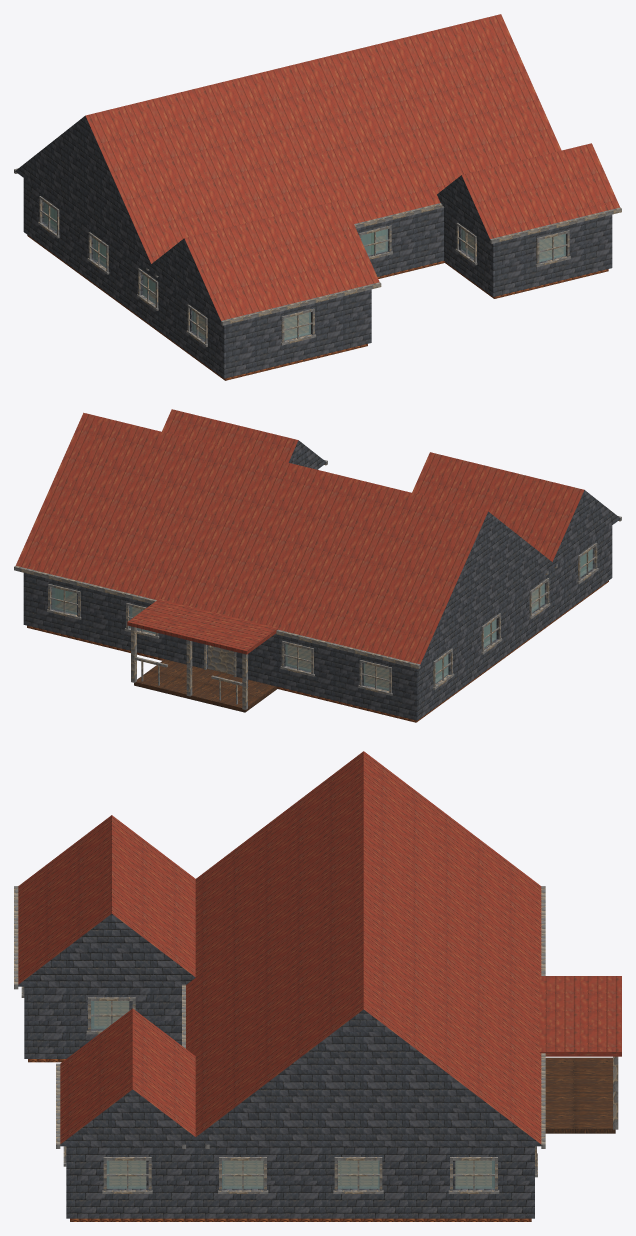
The model's file is cedar-split.gltf.
3 renders of one model, top to bottom at view 1: azimuth 30°, elevation 25°; view 2: azimuth 150°, elevation 25°; view 3: azimuth 270°, elevation 25°, orthographic. The views are drawn at different scales.
Visible parts, largest first — view 1: roof-L0-brown-shingle, exterior-L0-sage-siding, roof-L0-sage-siding, trim-L0-dark-wood, glazing-L0-glass, floor-L0-floor, roof-L0-dark-wood; view 2: roof-L0-brown-shingle, exterior-L0-sage-siding, roof-L0-sage-siding, porch-L0-brown-shingle, trim-L0-dark-wood, porch-L0-stone, glazing-L0-glass, floor-L0-floor, roof-L0-dark-wood, porch-L0-dark-wood, door-leaf-L0-dark-wood; view 3: roof-L0-brown-shingle, roof-L0-sage-siding, exterior-L0-sage-siding, porch-L0-brown-shingle, floor-L0-floor, glazing-L0-glass, porch-L0-stone, trim-L0-dark-wood, roof-L0-dark-wood.
Part boxes in pixels (<box>): roof-L0-brown-shingle: <box>85,14,619,320</box>; exterior-L0-sage-siding: <box>23,178,612,378</box>; roof-L0-sage-siding: <box>15,115,490,321</box>; trim-L0-dark-wood: <box>38,196,570,346</box>; glazing-L0-glass: <box>43,202,565,340</box>; floor-L0-floor: <box>27,232,608,380</box>; roof-L0-dark-wood: <box>14,168,621,325</box>; roof-L0-brown-shingle: <box>16,409,584,664</box>; exterior-L0-sage-siding: <box>23,469,612,720</box>; roof-L0-sage-siding: <box>288,440,620,665</box>; porch-L0-brown-shingle: <box>127,599,278,654</box>; trim-L0-dark-wood: <box>47,542,598,695</box>; porch-L0-stone: <box>134,659,277,712</box>; glazing-L0-glass: <box>52,548,592,690</box>; floor-L0-floor: <box>27,580,608,722</box>; roof-L0-dark-wood: <box>14,460,621,668</box>; porch-L0-dark-wood: <box>131,626,247,709</box>; door-leaf-L0-dark-wood: <box>208,645,233,674</box>; roof-L0-brown-shingle: <box>18,751,541,1143</box>; roof-L0-sage-siding: <box>18,914,542,1146</box>; exterior-L0-sage-siding: <box>24,986,534,1218</box>; porch-L0-brown-shingle: <box>539,976,621,1056</box>; floor-L0-floor: <box>28,1001,531,1221</box>; glazing-L0-glass: <box>91,1001,494,1188</box>; porch-L0-stone: <box>545,1057,615,1133</box>; trim-L0-dark-wood: <box>21,986,537,1193</box>; roof-L0-dark-wood: <box>14,886,545,1148</box>.
Bounding box in the file's own units: 14.56 × 5.73 × 14.48.
8 materials, 7 textured.
